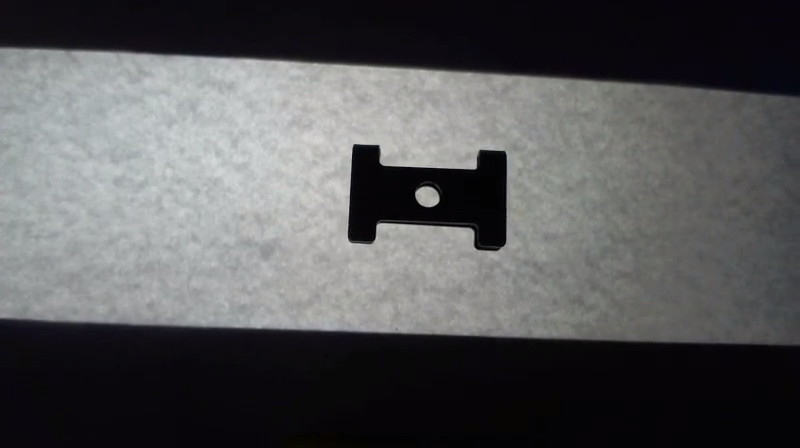O002: (346, 139, 513, 253)
